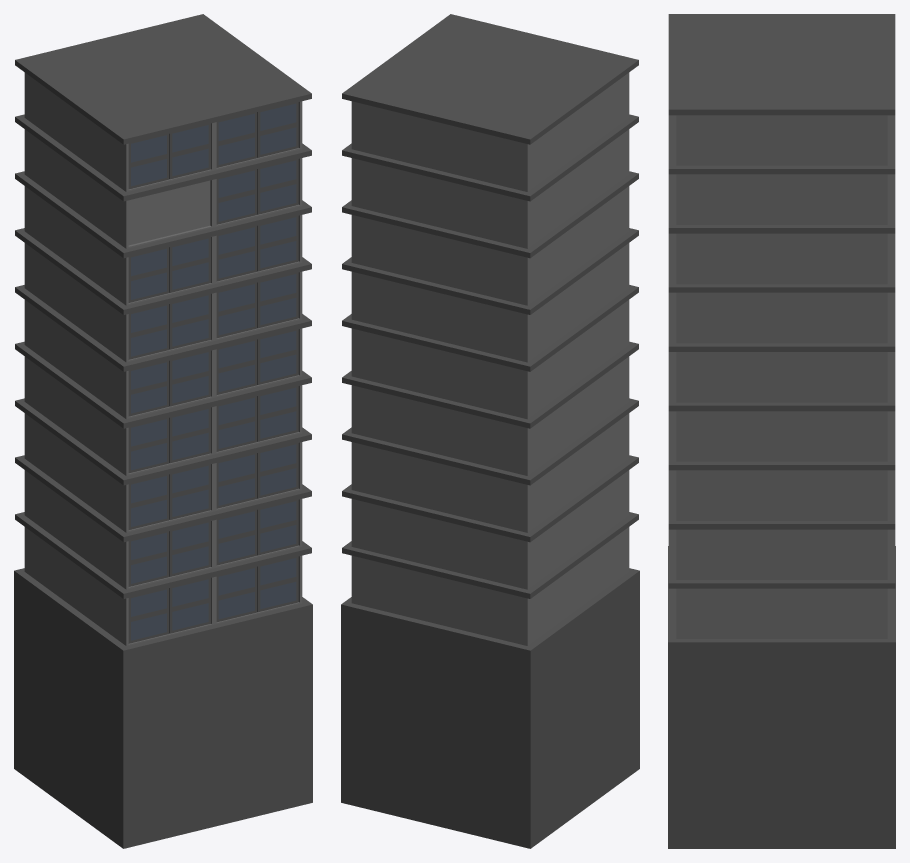
File: Apartments.fbx
3 views of the same model, side by side, from view 1: azimuth 30°, elevation 25°; view 2: azimuth 150°, elevation 25°; view 3: azimuth 270°, elevation 25° (orthographic). The views are drawn at different scales.
Parts seen in each view (by area): view 1: Base, pCube1 (×9), pCube6 (×9), pCube2 (×9), pCube3 (×9), pCube5 (×8), pCube4 (×8); view 2: pCube1 (×9), Base, pCube6 (×9); view 3: pCube1 (×9), Base, pCube6 (×9).
Boxes of the visible parts, x1,y1,x2,y2 form: Base: (14,568,312,848); pCube1 (×9): (24,72,302,645); pCube6 (×9): (15,14,311,598); pCube2 (×9): (257,102,298,612); pCube3 (×9): (216,112,257,622); pCube5 (×8): (169,123,210,633); pCube4 (×8): (128,134,169,643); pCube1 (×9): (351,72,629,645); Base: (341,568,639,848); pCube6 (×9): (342,14,638,598); pCube1 (×9): (676,115,887,638); Base: (668,546,895,848); pCube6 (×9): (668,14,895,588).
Bounding box in the file's own units: 8.03 × 28.71 × 8.03.
